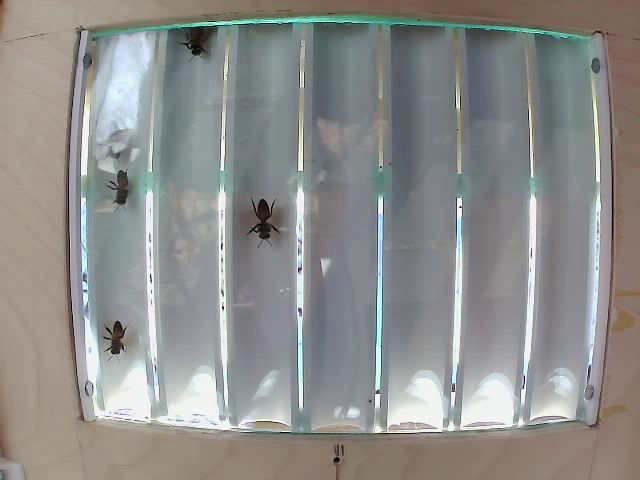bee: (232, 182, 292, 258), (107, 166, 148, 231), (95, 304, 132, 364), (177, 26, 216, 80)
